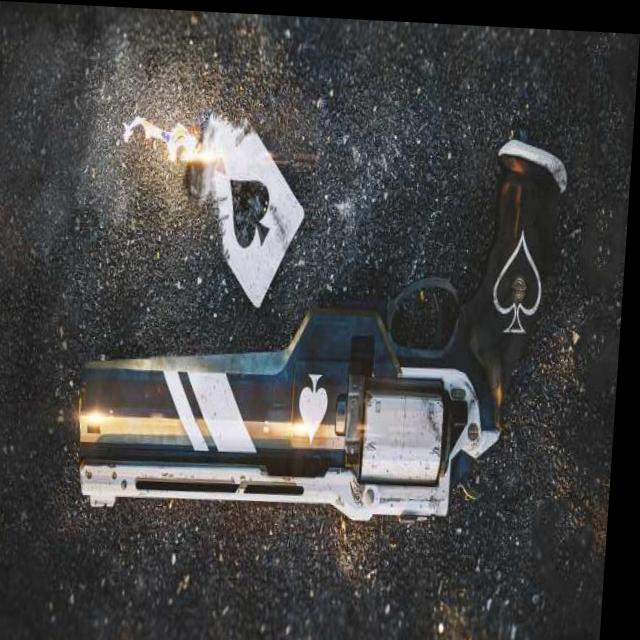handgun: (83, 111, 570, 516)
